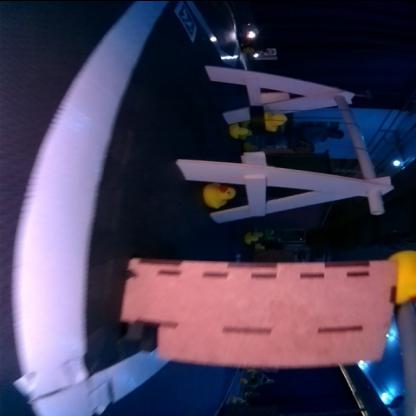Duckie: (204, 184, 235, 206), (264, 111, 286, 128), (232, 122, 248, 135), (247, 232, 258, 242)
Duckiebot: (239, 21, 267, 55)
QR code: (174, 3, 198, 37)
